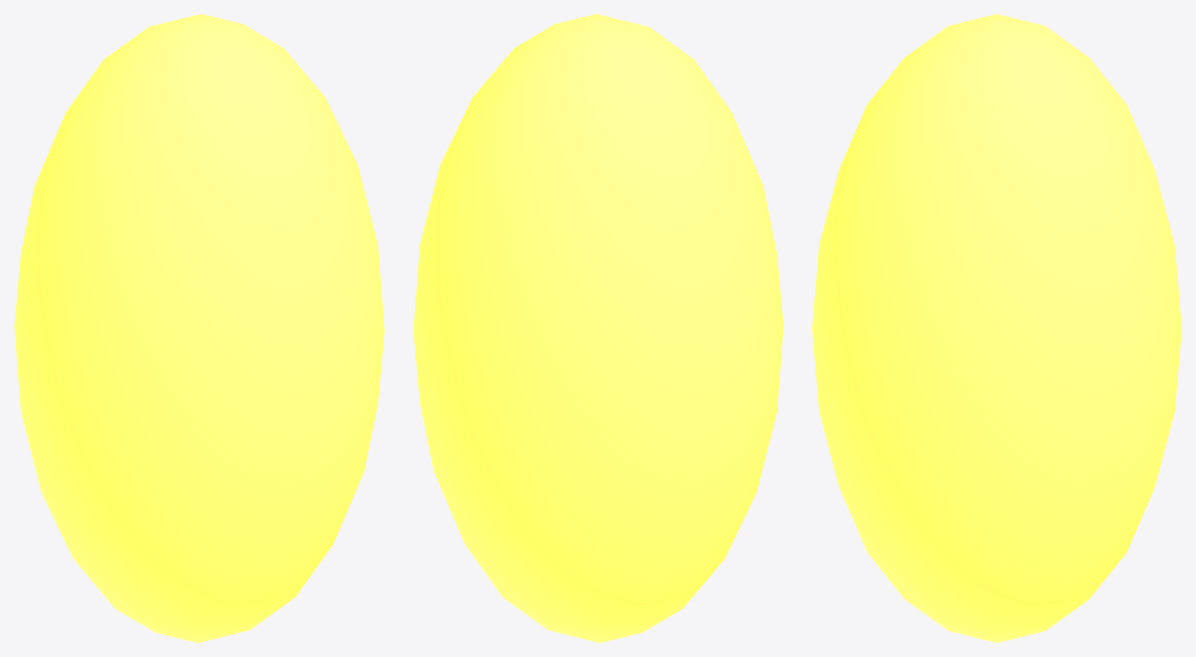
Rendered from feather_gold.glb.
3 views of the same model, side by side, from view 1: azimuth 30°, elevation 25°; view 2: azimuth 150°, elevation 25°; view 3: azimuth 270°, elevation 25° (orthographic).
Visible parts, largest first — view 1: glow__feather_glow; view 2: glow__feather_glow; view 3: glow__feather_glow.
Part boxes in pixels (<box>): glow__feather_glow: <box>14,14,384,642</box>; glow__feather_glow: <box>413,14,783,642</box>; glow__feather_glow: <box>812,14,1181,642</box>.
Size of the model in its own units: 0.33 by 0.6 by 0.33.
